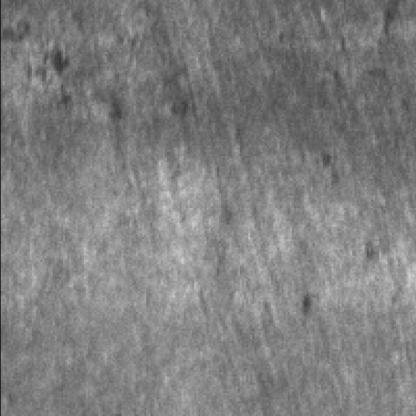rolled-in_scale: (0, 19, 75, 104)
